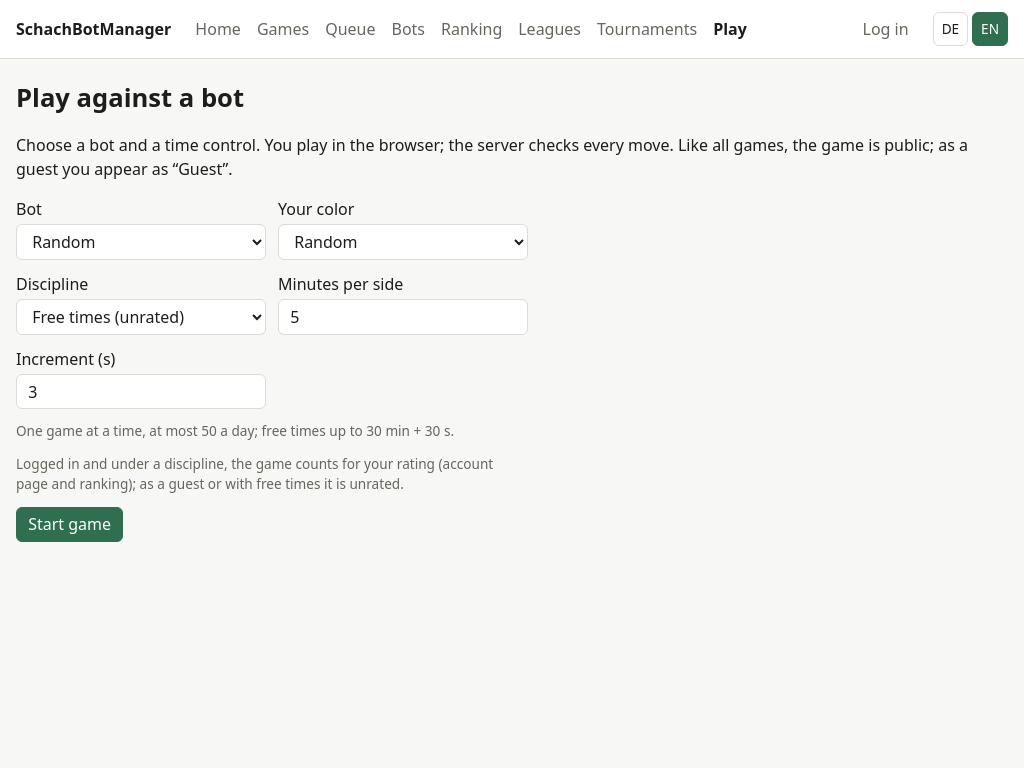
Scenario: play setup › names a full server
Click the button "Start game". click: (70, 524)
box: left=16, top=506, right=123, bottom=542
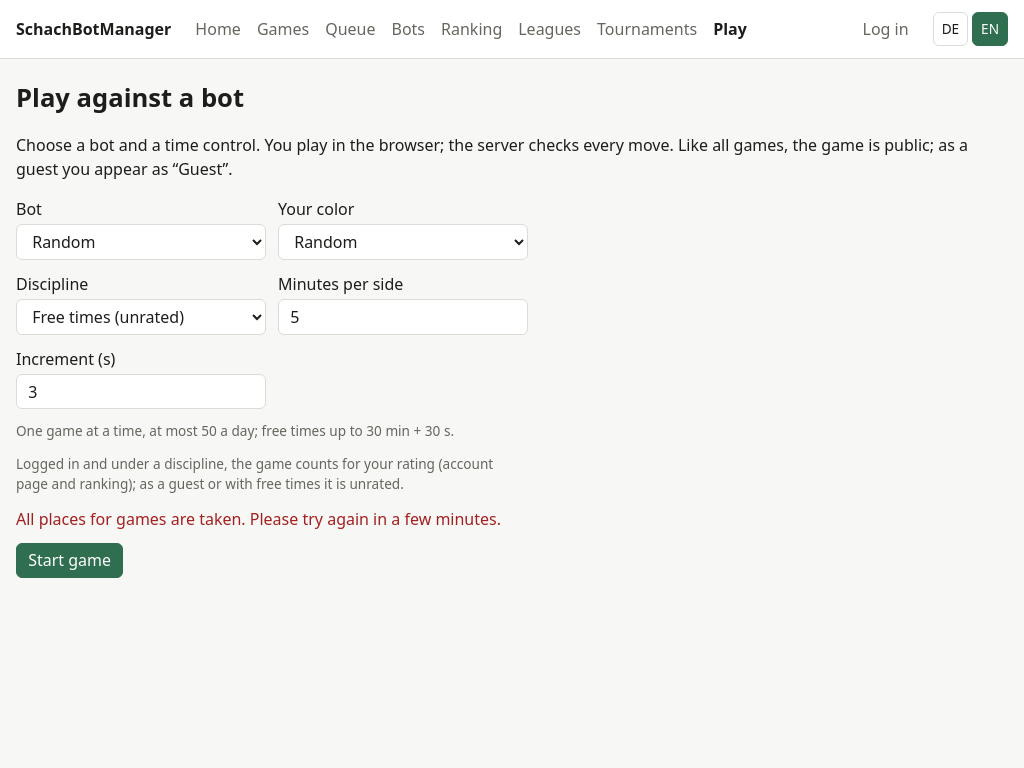
Check: the message shows "All places for games are taken", box left=16, top=508, right=501, bottom=530
